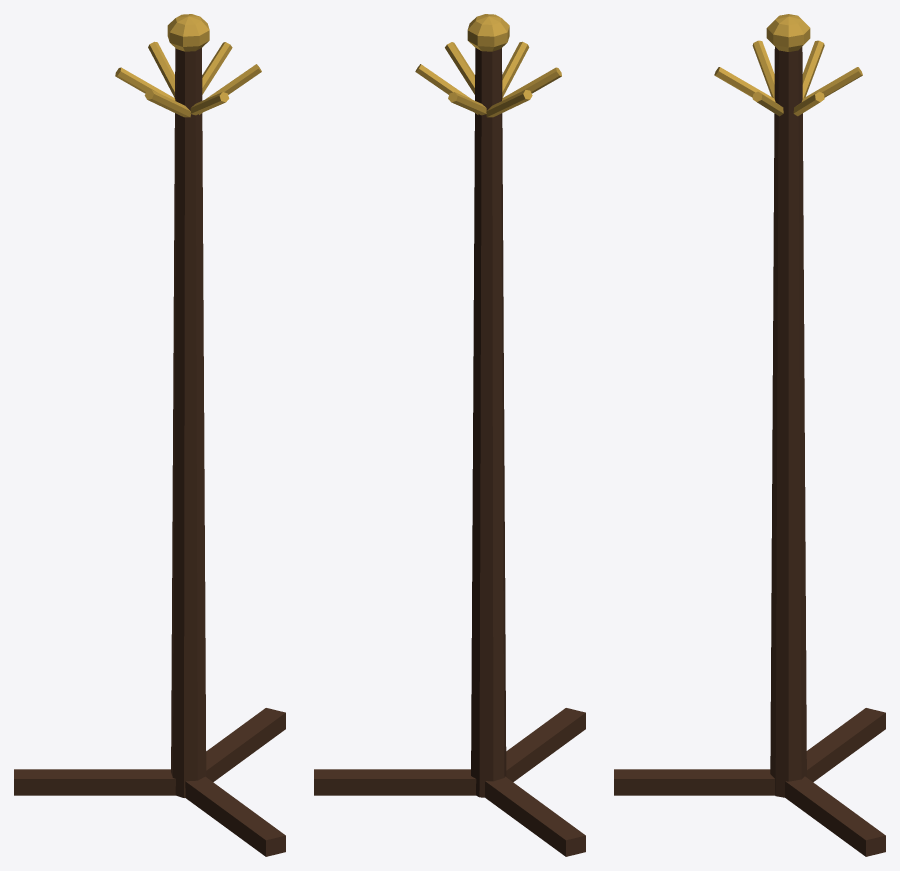
The model's file is coat_rack.glb.
3 views of the same model, side by side, from view 1: azimuth 30°, elevation 25°; view 2: azimuth 150°, elevation 25°; view 3: azimuth 270°, elevation 25° (orthographic).
Visible parts, largest first — view 1: pole_rack_wood, feet_rack_wood, hooks_rack_brass, top_rack_brass; view 2: pole_rack_wood, feet_rack_wood, hooks_rack_brass, top_rack_brass; view 3: pole_rack_wood, feet_rack_wood, hooks_rack_brass, top_rack_brass.
Boxes of the visible parts, x1,y1,x2,y2 form: pole_rack_wood: (171, 48, 206, 797); feet_rack_wood: (14, 708, 285, 856); hooks_rack_brass: (115, 41, 261, 117); top_rack_brass: (167, 14, 209, 51); pole_rack_wood: (471, 48, 506, 797); feet_rack_wood: (314, 708, 585, 856); hooks_rack_brass: (415, 41, 561, 117); top_rack_brass: (467, 14, 509, 51); pole_rack_wood: (770, 47, 806, 797); feet_rack_wood: (614, 708, 885, 856); hooks_rack_brass: (714, 40, 862, 116); top_rack_brass: (766, 14, 810, 51).
Bounding box in the file's own units: 0.6832 × 1.86 × 0.5917.
